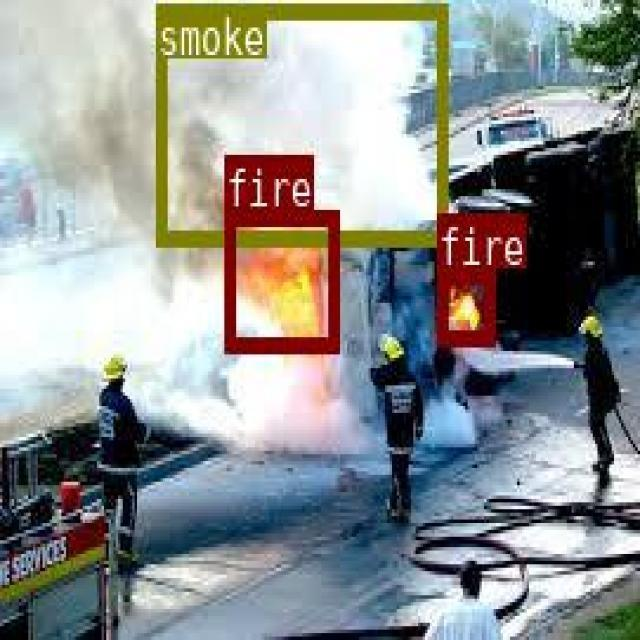fire: (224, 207, 336, 349), (436, 268, 494, 341)
smoke: (154, 2, 445, 243)
